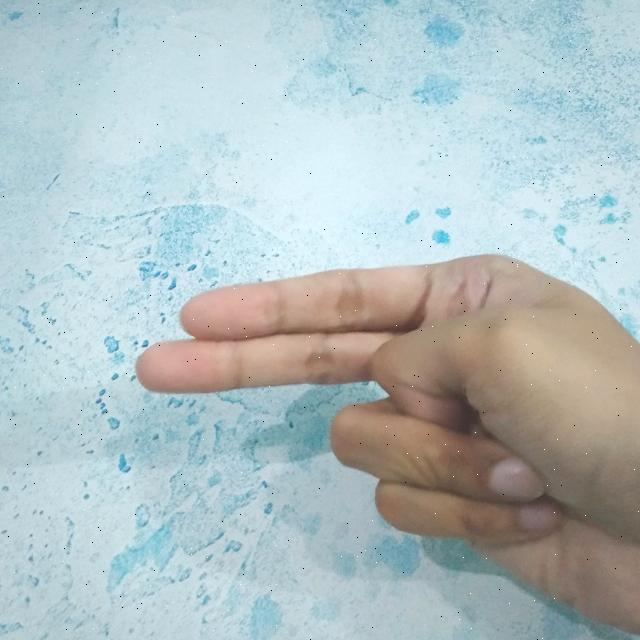H: (126, 237, 640, 640)
